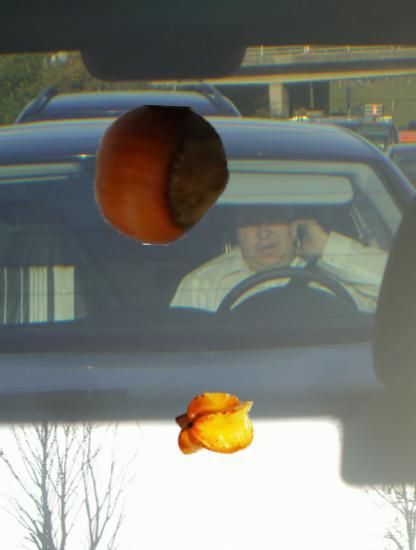Carambula: (172, 380, 261, 469)
Nut: (92, 106, 232, 246)
